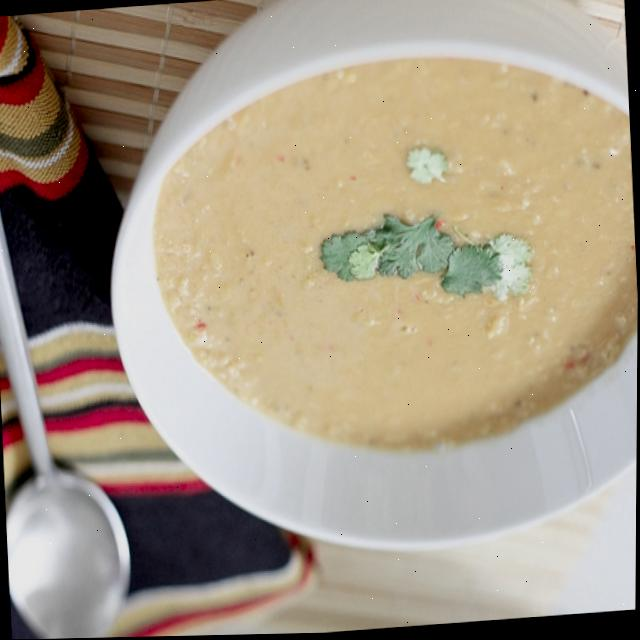汤锅炖物: (103, 3, 640, 568)
